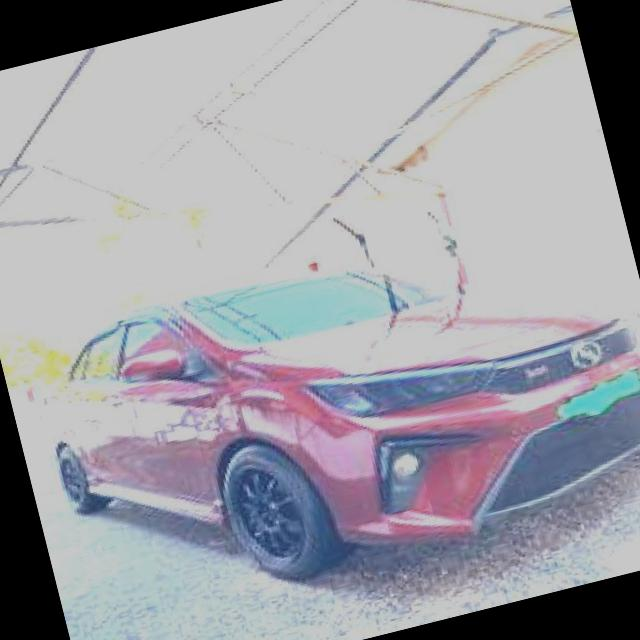PeroduaBezza: (23, 187, 640, 633)
